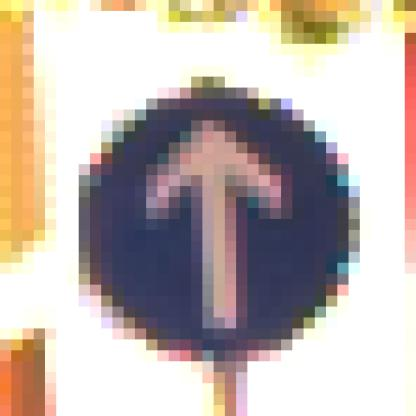AheadOnly: (68, 56, 361, 351)
